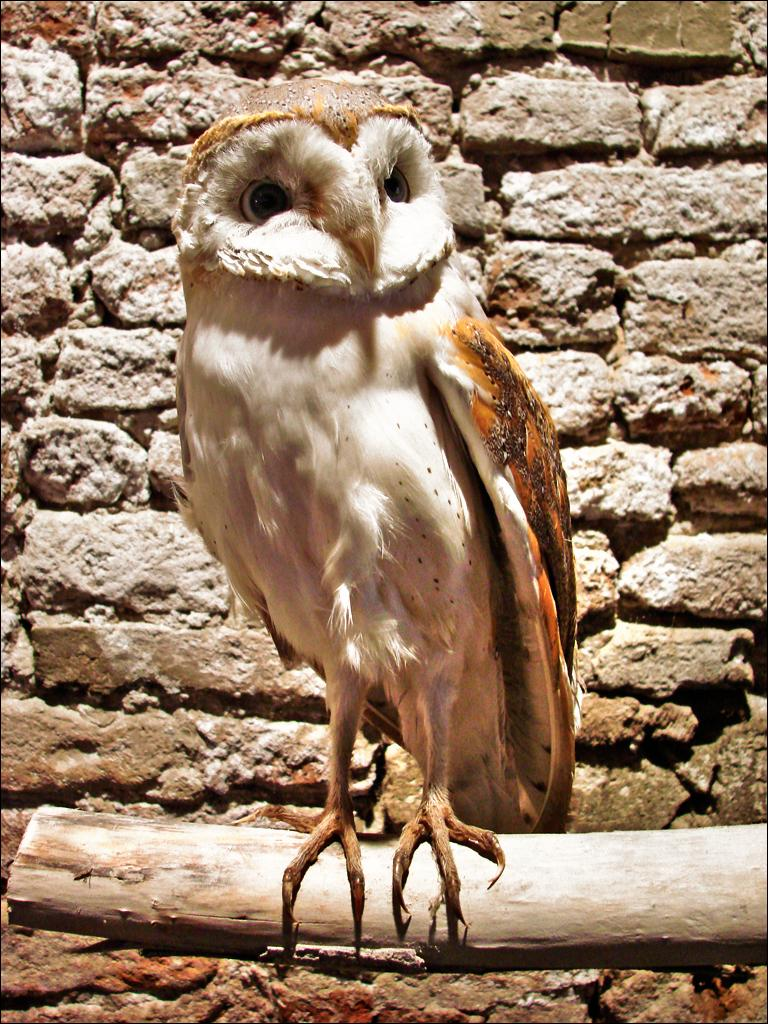Owl: (185, 118, 591, 947)
